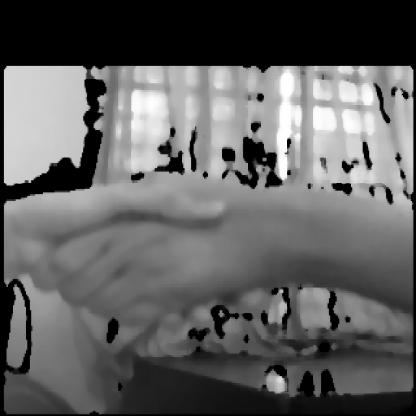handshake: (10, 163, 415, 354)
